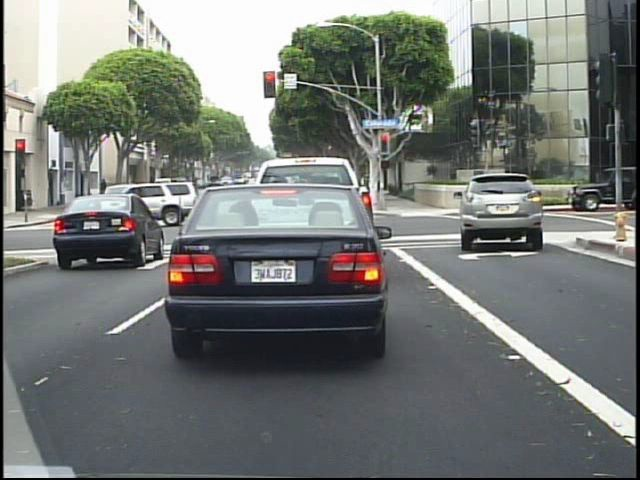person: (96, 176, 111, 207)
